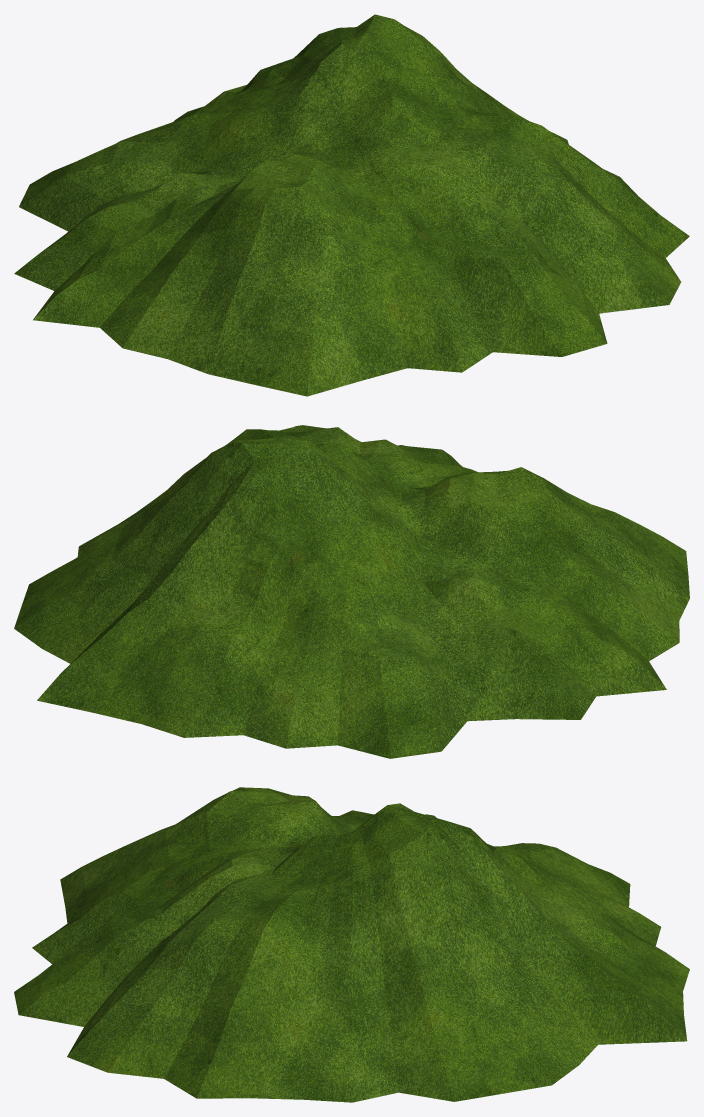
File: sphagnum_hummock_v01.fbx
3 views of the same model, one above another, from view 1: azimuth 30°, elevation 25°; view 2: azimuth 150°, elevation 25°; view 3: azimuth 270°, elevation 25° (orthographic).
Visible parts, largest first — view 1: sphagnum_hummock_v01; view 2: sphagnum_hummock_v01; view 3: sphagnum_hummock_v01.
Boxes of the visible parts, box(x1,y1,x2,y2) form: sphagnum_hummock_v01: box(14, 14, 689, 396); sphagnum_hummock_v01: box(14, 425, 689, 758); sphagnum_hummock_v01: box(14, 787, 689, 1102).
Size of the model in its own units: 62.51 by 18.56 by 62.65.
Materials: 1 (1 with a texture image).
